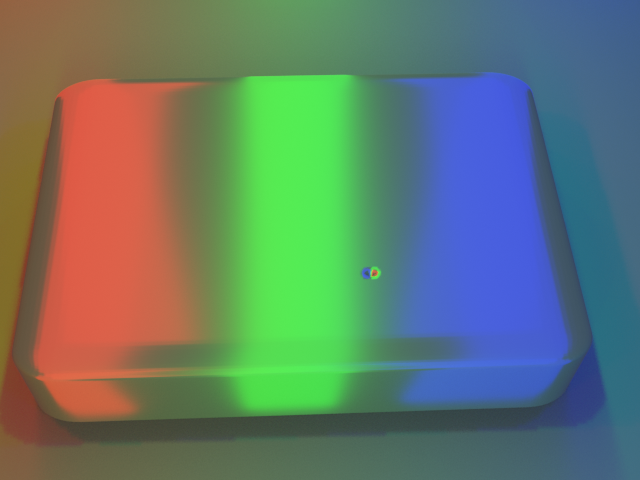dent: (355, 257, 396, 291)
